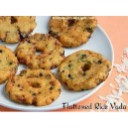vada: (61, 50, 111, 89), (6, 69, 62, 100), (19, 35, 64, 68), (49, 15, 96, 45), (1, 15, 36, 43), (1, 44, 17, 82)
